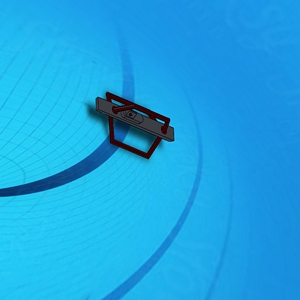submarine: (94, 91, 175, 158)
